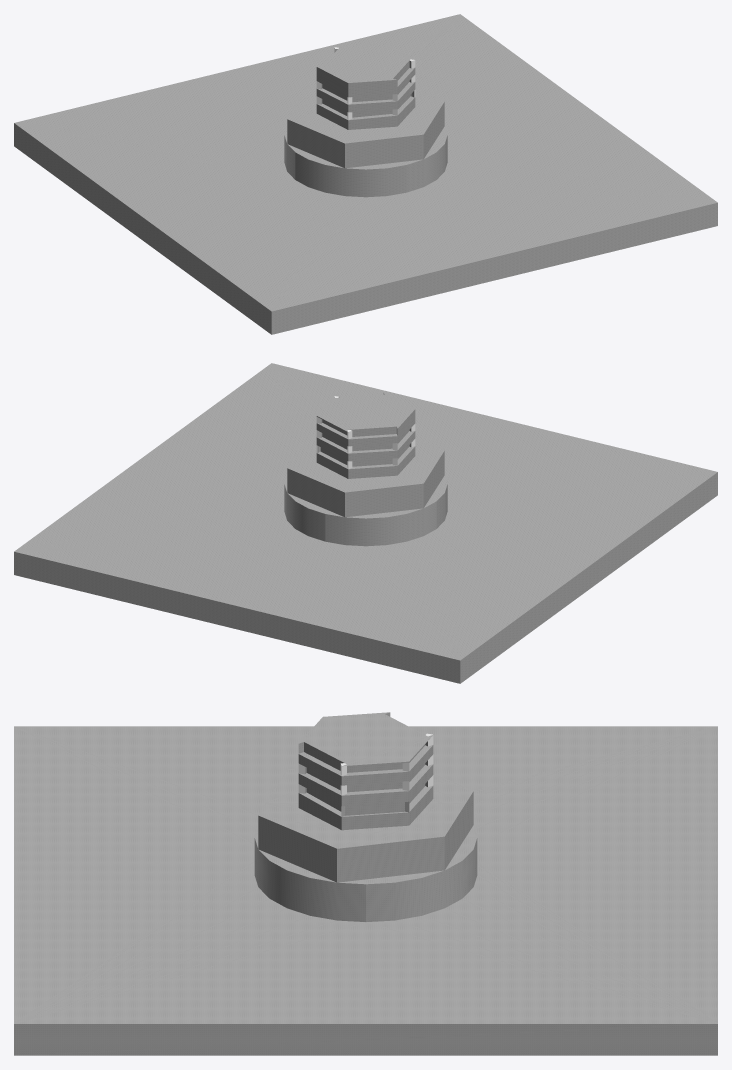
Rendered from 돌 입은 록볼트.fbx.
The picture shows the model from 3 angles, top to bottom: view 1: azimuth 30°, elevation 25°; view 2: azimuth 150°, elevation 25°; view 3: azimuth 270°, elevation 25°; orthographic projection. The views are drawn at different scales.
Visible parts, largest first — view 1: Model; view 2: Model; view 3: Model.
Boxes of the visible parts, x1,y1,x2,y2 form: Model: (14,14,717,334); Model: (14,363,717,683); Model: (14,712,717,1055).
Size of the model in its own units: 100 by 26.29 by 100.
